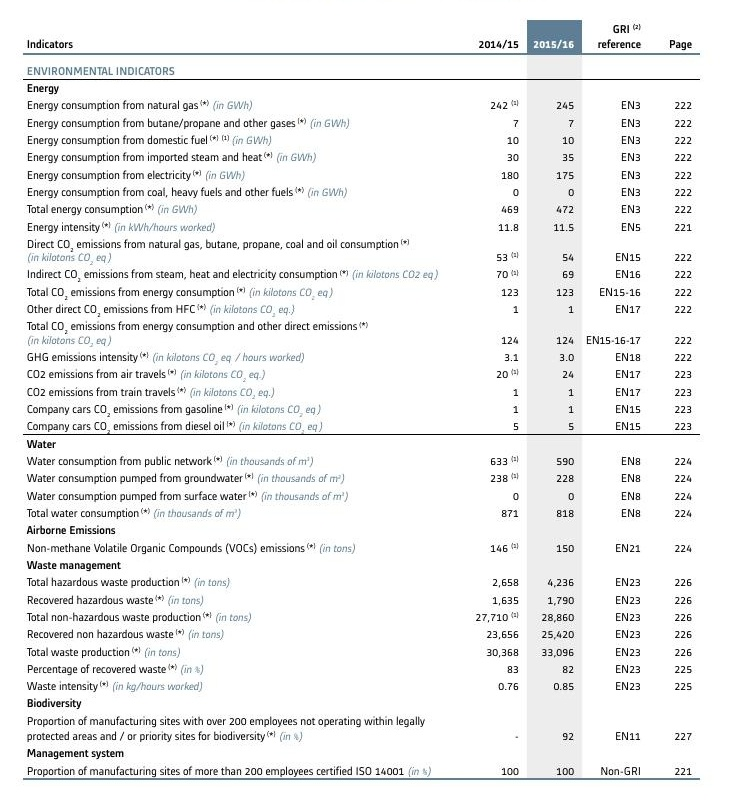table: (0, 0, 733, 800)
